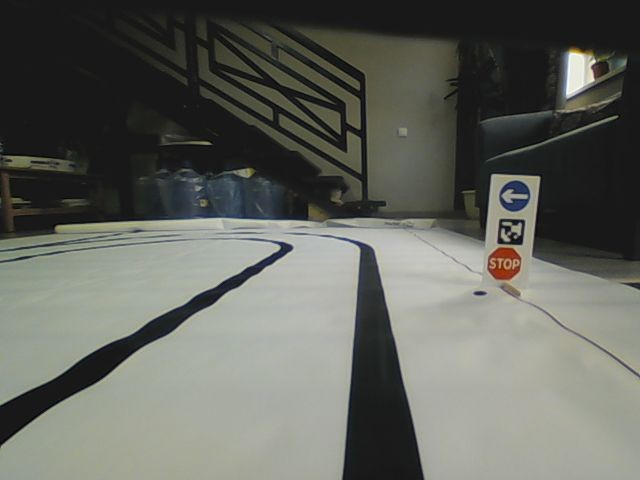Stop: (487, 246, 523, 281)
